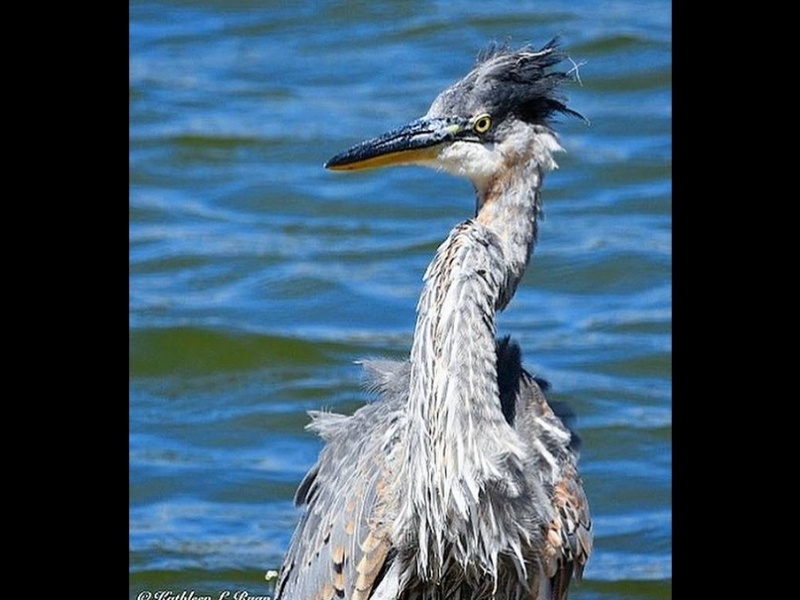heron: (276, 30, 601, 580)
